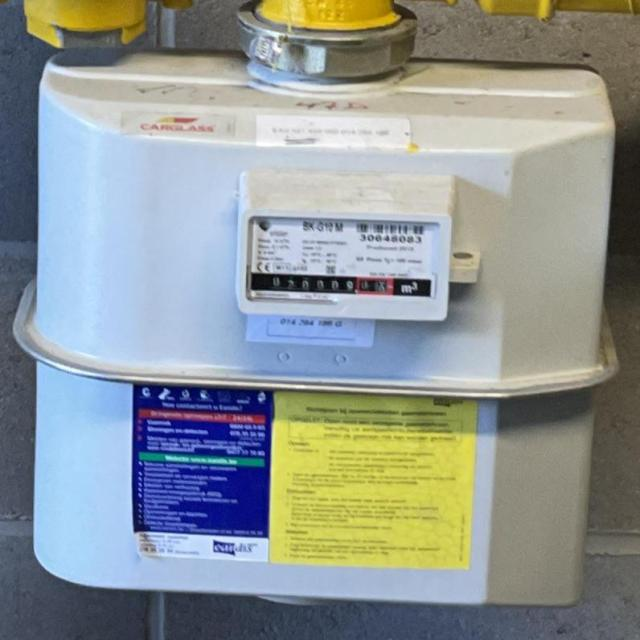gaz_meter: (251, 215, 438, 301)
indication: (266, 274, 394, 294)
